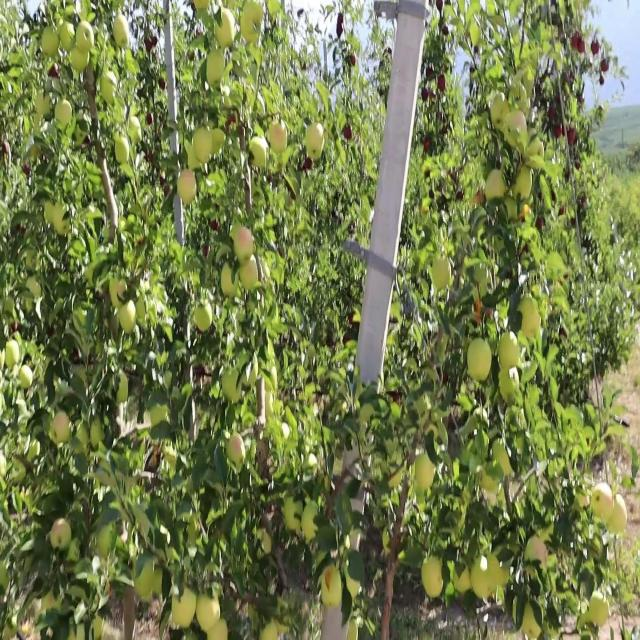apple: (472, 554, 498, 601), (468, 341, 492, 384), (172, 590, 196, 631), (240, 7, 264, 44), (520, 298, 541, 340), (412, 455, 436, 491), (196, 597, 220, 633), (592, 483, 613, 524), (608, 497, 628, 537), (424, 561, 444, 599), (216, 14, 237, 50), (500, 334, 521, 370), (432, 255, 452, 292), (208, 49, 226, 89), (236, 227, 256, 263), (508, 113, 528, 149), (268, 120, 288, 155), (492, 99, 511, 135), (524, 604, 543, 639), (488, 170, 507, 204), (492, 554, 511, 588), (588, 597, 610, 626), (324, 568, 339, 610), (112, 14, 129, 50), (52, 519, 72, 549), (228, 433, 245, 468), (196, 127, 212, 164), (240, 263, 260, 292), (180, 170, 196, 206), (308, 127, 324, 162), (528, 135, 544, 169), (76, 21, 94, 50), (476, 298, 494, 327), (56, 412, 72, 444), (224, 263, 238, 299), (528, 540, 548, 565), (496, 556, 511, 588), (60, 21, 75, 52), (112, 277, 127, 308), (120, 305, 136, 334), (44, 28, 60, 57), (56, 99, 72, 128), (196, 305, 212, 334), (252, 142, 268, 171), (516, 170, 532, 199), (456, 568, 472, 597), (72, 49, 89, 75), (260, 618, 281, 639), (56, 206, 70, 236), (208, 618, 228, 639), (244, 7, 264, 28), (100, 78, 115, 105), (500, 447, 513, 478), (116, 376, 129, 405), (388, 469, 405, 491), (212, 127, 226, 153), (8, 341, 20, 370), (36, 99, 53, 119), (128, 120, 142, 144), (152, 405, 167, 427), (44, 199, 55, 228), (136, 298, 147, 325), (548, 99, 560, 123), (116, 142, 129, 164), (188, 149, 201, 171), (196, 0, 211, 18), (20, 369, 32, 391), (40, 99, 53, 119), (36, 92, 47, 114), (568, 127, 578, 149), (196, 0, 211, 14), (269, 1, 280, 20), (148, 35, 159, 53), (336, 14, 344, 37), (44, 597, 56, 612), (48, 63, 60, 78), (556, 120, 564, 142), (228, 113, 237, 132), (96, 618, 104, 639), (24, 113, 31, 135), (476, 191, 486, 206), (392, 391, 401, 407), (572, 35, 581, 50), (580, 35, 586, 57), (304, 156, 312, 172), (592, 42, 600, 57), (344, 127, 352, 142), (12, 319, 20, 334), (568, 71, 576, 85), (68, 7, 76, 20), (160, 78, 167, 92), (148, 42, 155, 53)
